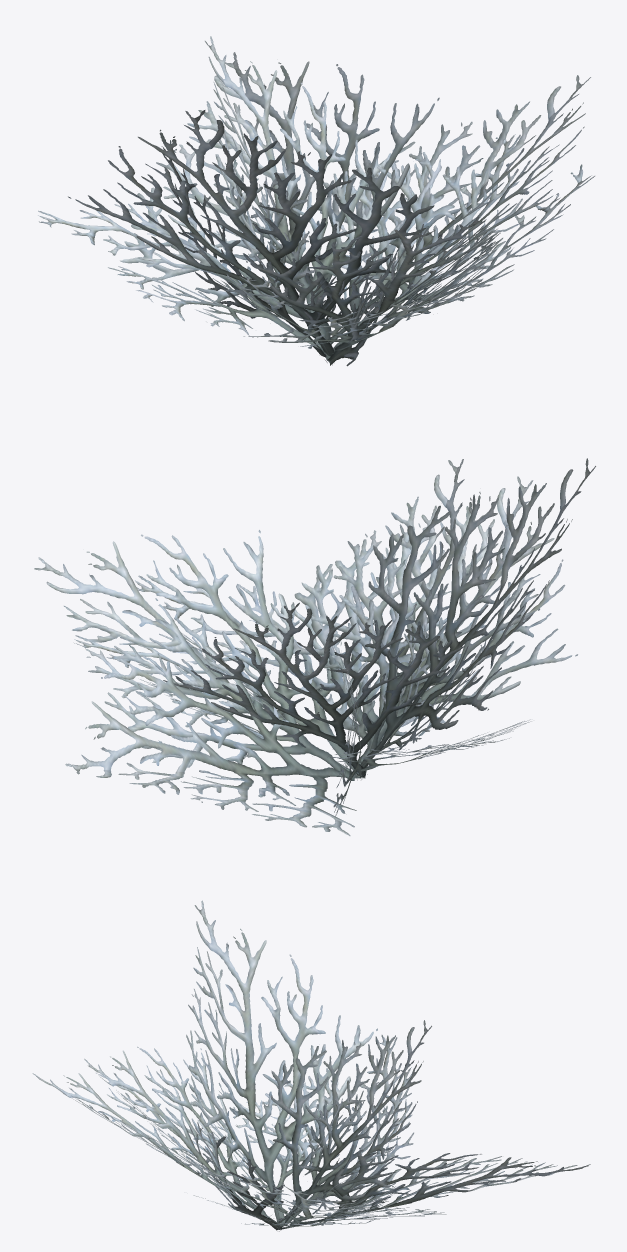
The model's file is LGhuangyuan_jinji.FBX.
3 renders of one model, top to bottom at view 1: azimuth 30°, elevation 25°; view 2: azimuth 150°, elevation 25°; view 3: azimuth 270°, elevation 25°, orthographic. The views are drawn at different scales.
Parts seen in each view (by area): view 1: LGhuangyuan_jinji; view 2: LGhuangyuan_jinji; view 3: LGhuangyuan_jinji.
Boxes of the visible parts, x1=… form: LGhuangyuan_jinji: x1=38, y1=36, x2=594, y2=366; LGhuangyuan_jinji: x1=34, y1=458, x2=595, y2=835; LGhuangyuan_jinji: x1=32, y1=900, x2=590, y2=1231.
Size of the model in its own units: 3.75 by 4.57 by 2.46.
